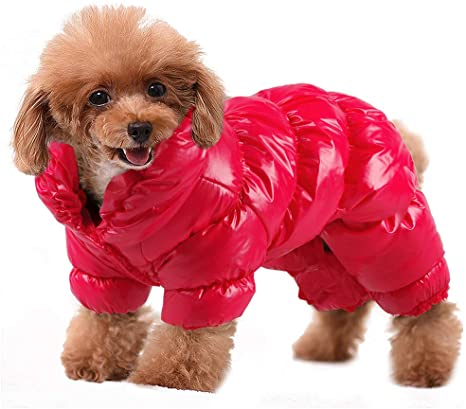Dog: (5, 3, 466, 409)
